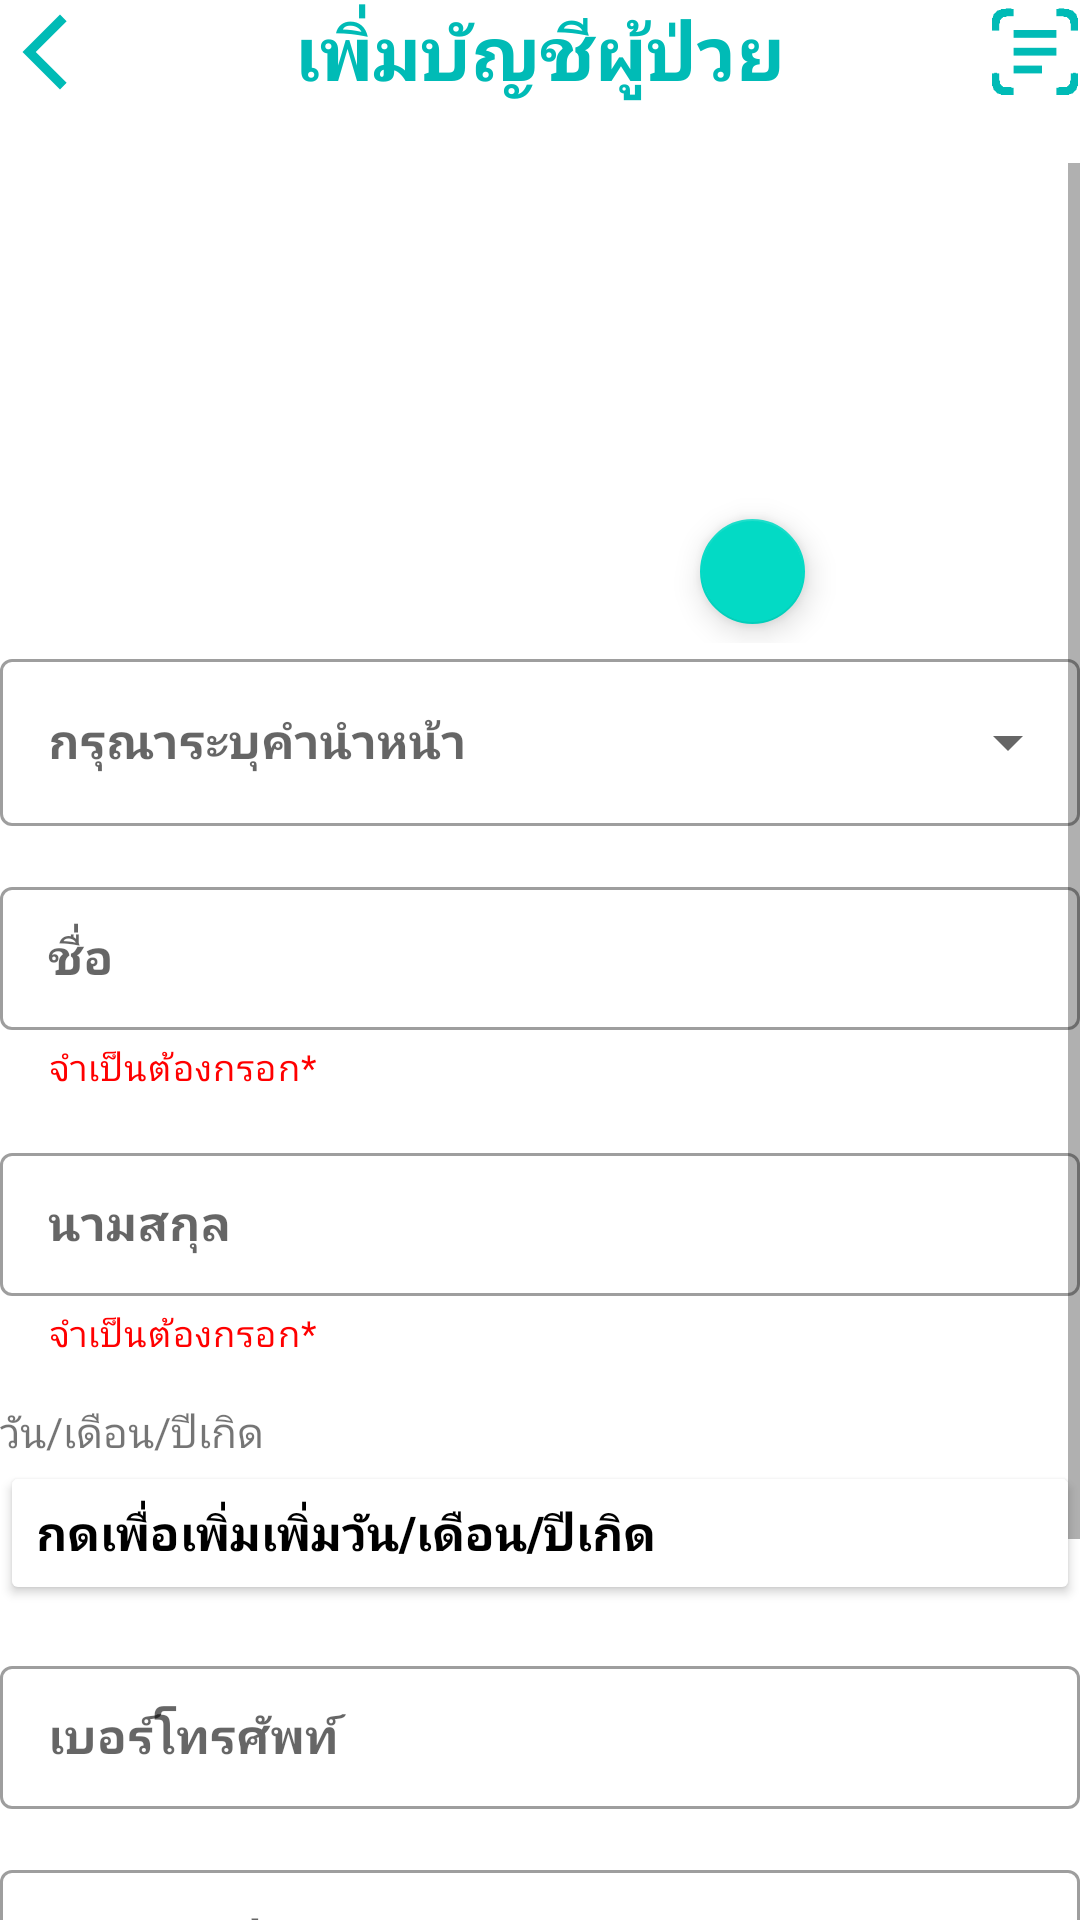

Where icons sit on this 1080*1920 app screen, as {"x1": x1, "y1": y1, "x2": x2, "y2": y2}:
arrow back: {"x1": 22, "y1": 14, "x2": 67, "y2": 90}
scantext: {"x1": 992, "y1": 8, "x2": 1078, "y2": 95}
